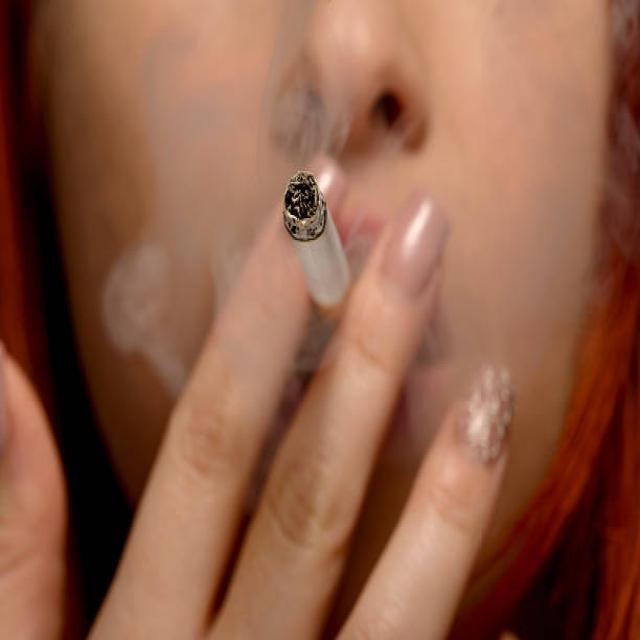Cigarette: (281, 168, 351, 318)
